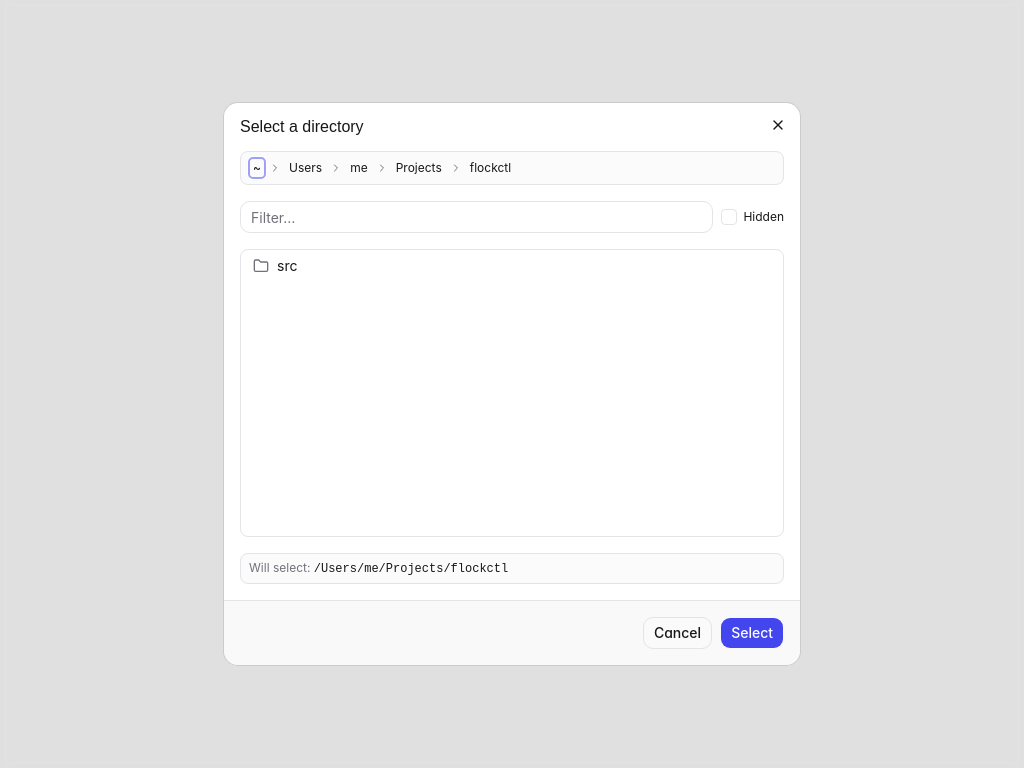
DirectoryPicker component › clicking a breadcrumb segment navigates up
Check: the text "src" is shown, box top-left (277, 256), bottom-right (297, 276)
Click the button "Projects".
click(419, 168)  # box top-left (392, 158), bottom-right (446, 178)
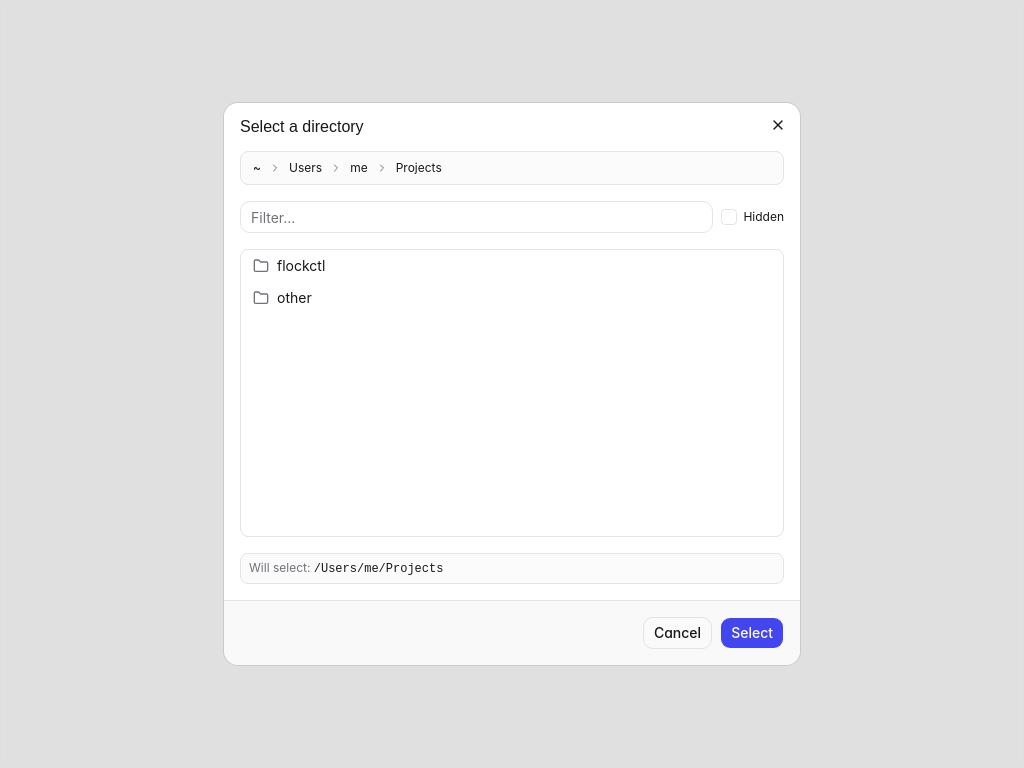
Check: the text "flockctl" is shown, box top-left (277, 256), bottom-right (325, 276)
Check: the text "other" is shown, box top-left (277, 288), bottom-right (312, 308)
